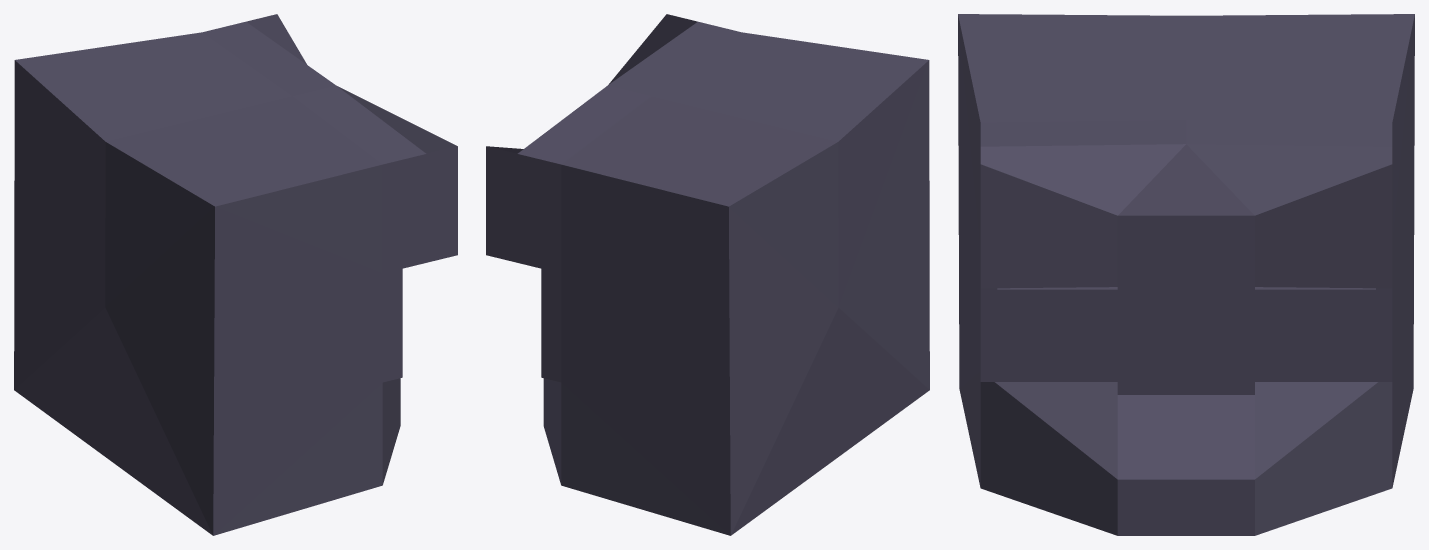
File: Robo-KnightHead.fbx
3 renders of one model, left to right at view 1: azimuth 30°, elevation 25°; view 2: azimuth 150°, elevation 25°; view 3: azimuth 270°, elevation 25°, orthographic. The views are drawn at different scales.
Parts seen in each view (by area): view 1: polySurface509; view 2: polySurface509; view 3: polySurface509.
Part boxes in pixels (x1,y1,x2,y2): polySurface509: (14,14,457,535); polySurface509: (486,14,929,535); polySurface509: (958,14,1414,535).
Size of the model in its own units: 62.36 by 74.91 by 81.67.
